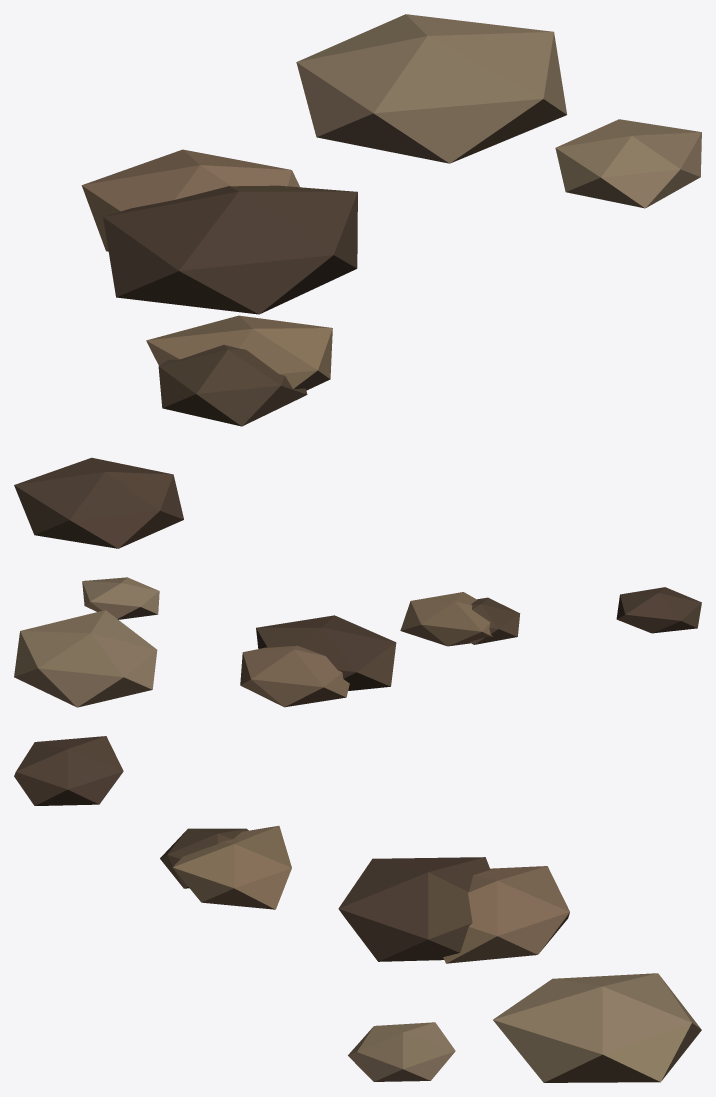
The model's file is env_gravel.glb.
3 renders of one model, top to bottom at view 1: azimuth 30°, elevation 25°; view 2: azimuth 150°, elevation 25°; view 3: azimuth 270°, elevation 25°, orthographic. The views are drawn at different scales.
Parts seen in each view (by area): view 1: env_gravel; view 2: env_gravel; view 3: env_gravel.
Part boxes in pixels (bbox=[...]): env_gravel: bbox=[14, 14, 701, 548]; env_gravel: bbox=[14, 577, 701, 707]; env_gravel: bbox=[14, 736, 701, 1082].
Bounding box in the file's own units: 1.07 × 0.1074 × 0.9343.
